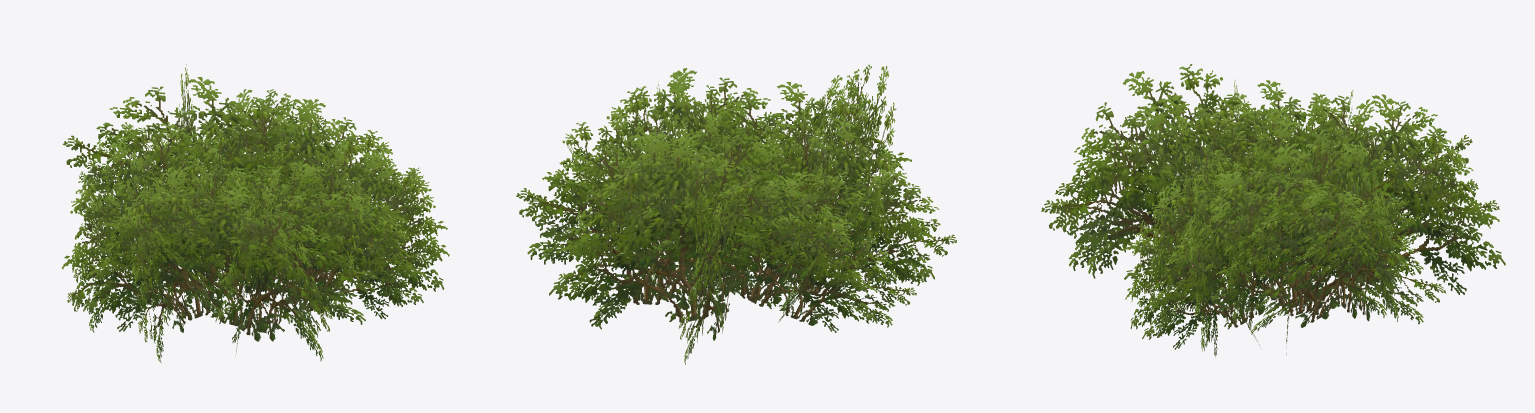
File: far.glb
3 views of the same model, side by side, from view 1: azimuth 30°, elevation 25°; view 2: azimuth 150°, elevation 25°; view 3: azimuth 270°, elevation 25° (orthographic). The views are drawn at different scales.
Parts seen in each view (by area): view 1: lod1, lod2; view 2: lod1, lod2; view 3: lod1, lod2.
Part boxes in pixels (box(x1,y1,x2,y2)): lod1: box(61, 89, 449, 362); lod2: box(62, 64, 423, 355); lod1: box(516, 72, 956, 364); lod2: box(549, 64, 916, 333); lod1: box(1041, 79, 1499, 356); lod2: box(1053, 64, 1505, 344).
Size of the model in its own units: 14.6 by 7.96 by 15.43.
Materials: 1 (1 with a texture image).
